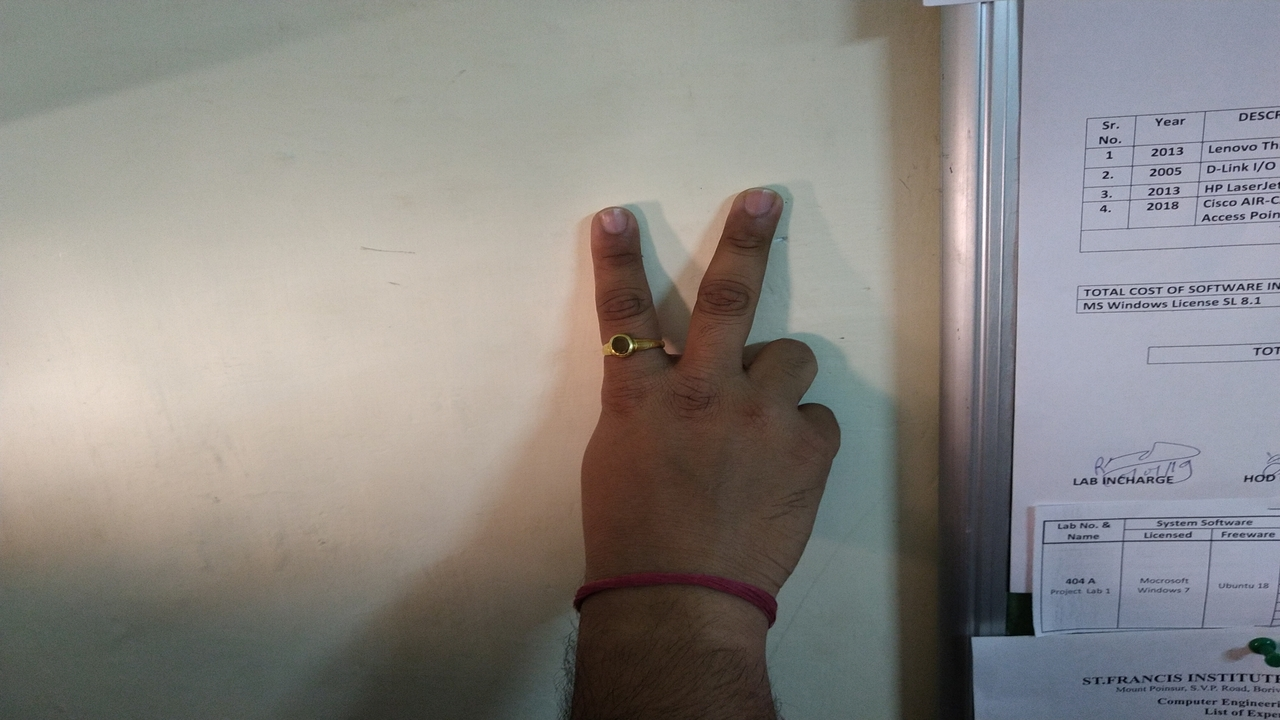fingertip: (726, 180, 792, 238), (584, 198, 646, 250)
